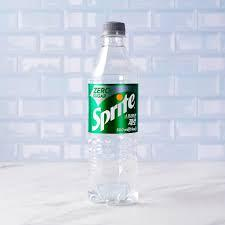sprite_zero: (83, 22, 147, 207)
